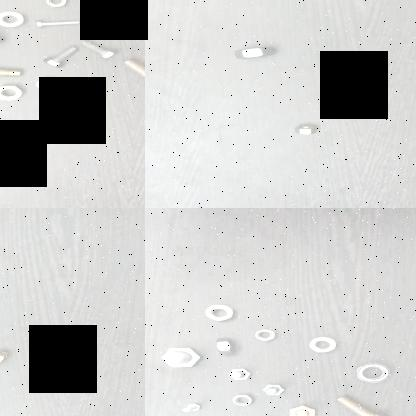Bolts: (158, 344, 204, 372), (332, 395, 392, 416), (38, 46, 81, 70), (48, 96, 100, 114), (80, 38, 116, 62), (118, 60, 145, 90), (0, 59, 28, 83), (32, 18, 84, 29), (284, 403, 320, 416), (225, 365, 254, 381), (258, 382, 288, 396), (180, 402, 203, 416)
NUTS: (352, 362, 392, 384), (201, 302, 235, 326), (231, 44, 275, 62), (107, 0, 142, 18), (212, 336, 240, 358), (306, 336, 338, 355), (0, 9, 25, 32), (0, 82, 27, 103), (286, 124, 325, 136), (32, 76, 58, 92), (250, 327, 276, 342), (228, 393, 254, 408), (0, 349, 14, 373), (41, 0, 70, 10)
